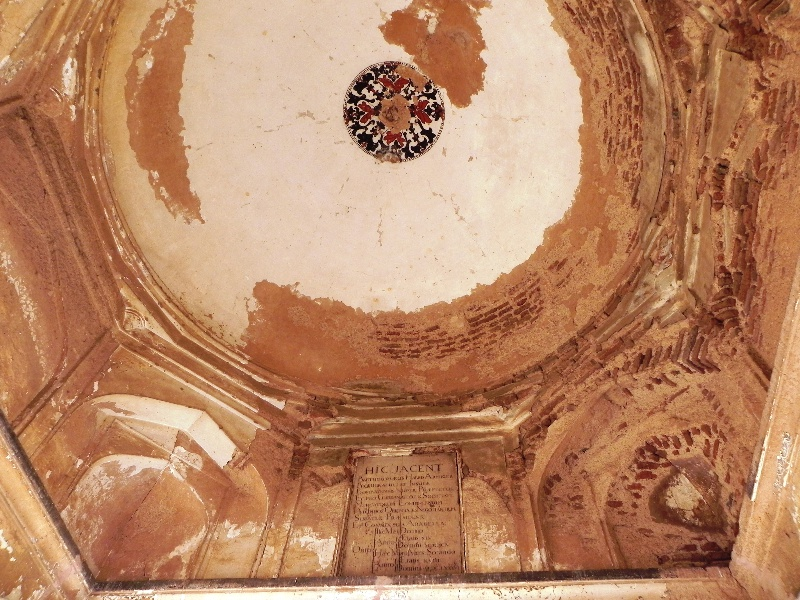Exposed Bricks: (595, 11, 789, 397), (125, 2, 217, 224), (376, 282, 551, 366)
